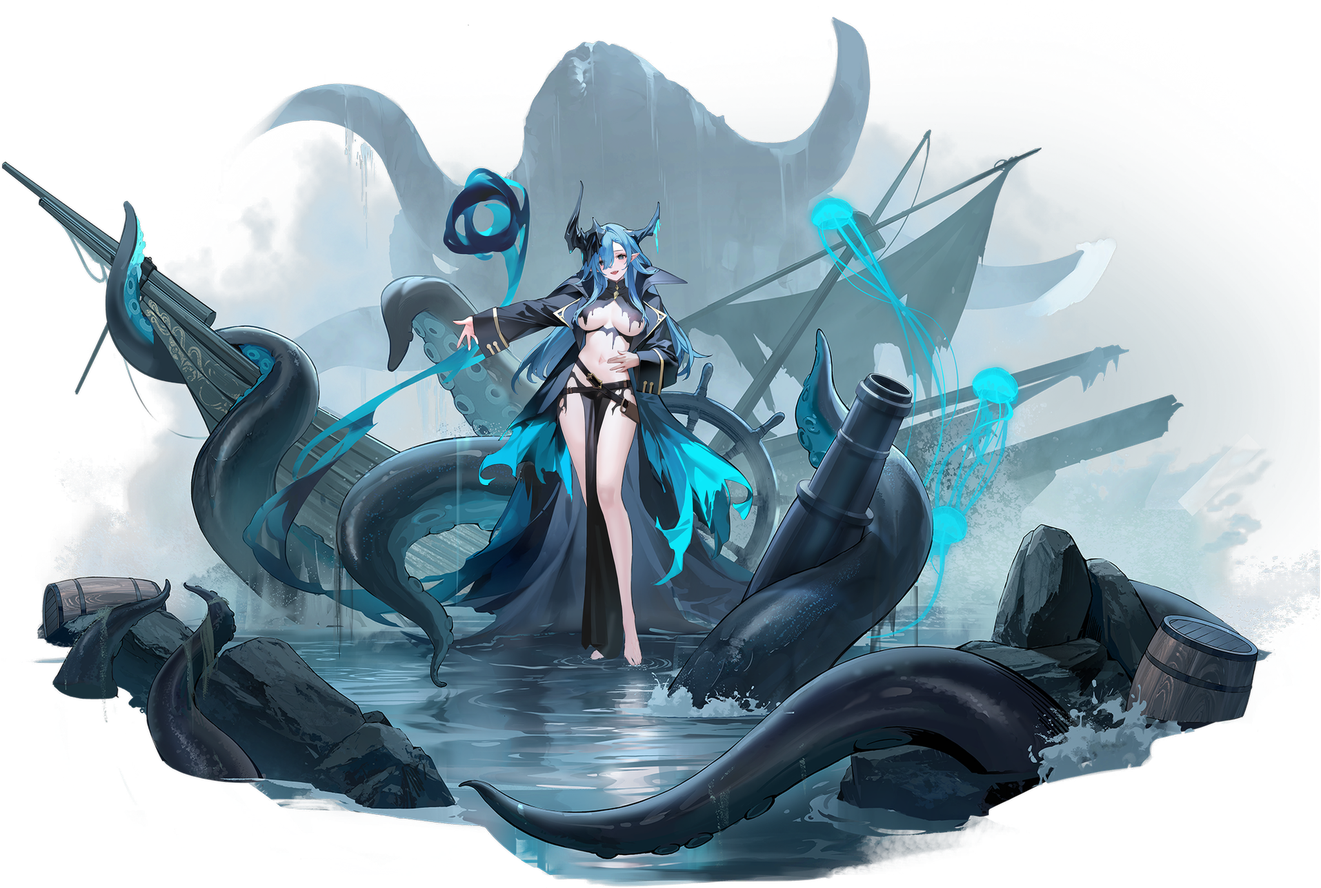person: (460, 189, 751, 698)
